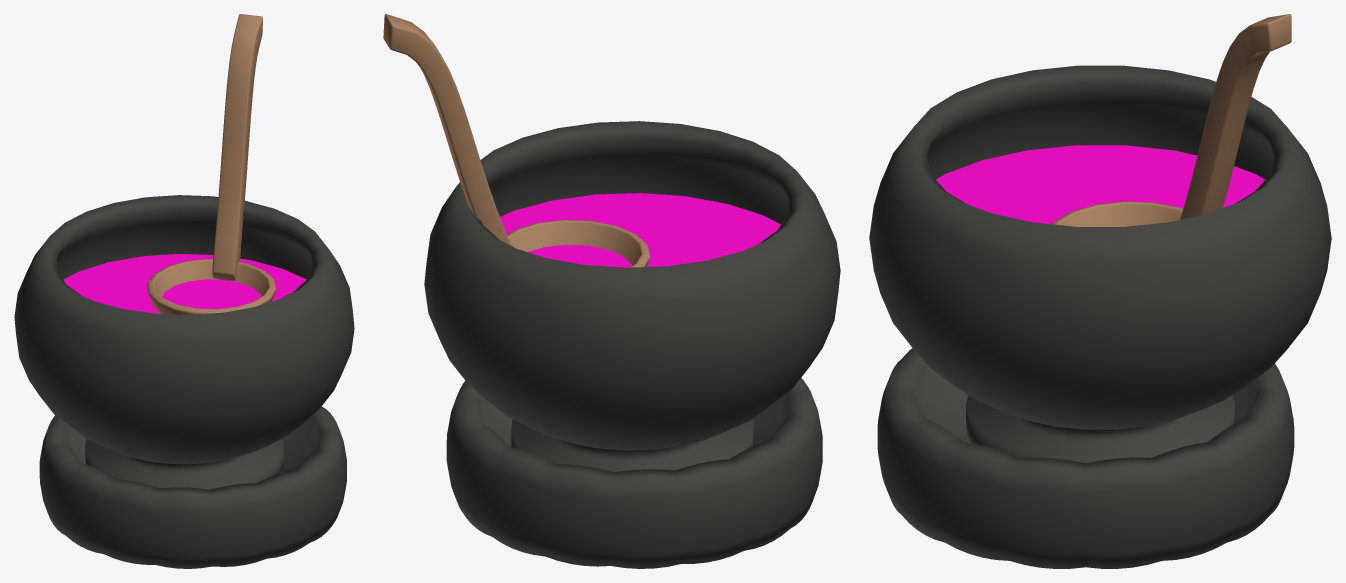
The model's file is Coloured_pot.fbx.
The picture shows the model from 3 angles, left to right: view 1: azimuth 30°, elevation 25°; view 2: azimuth 150°, elevation 25°; view 3: azimuth 270°, elevation 25°; orthographic projection. The views are drawn at different scales.
Visible parts, largest first — view 1: wall.003; view 2: wall.003; view 3: wall.003.
Part boxes in pixels (x1,y1,x2,y2): wall.003: [14, 14, 354, 568]; wall.003: [383, 14, 840, 568]; wall.003: [869, 14, 1331, 568].
Bounding box in the file's own units: 203 × 270 × 205.
